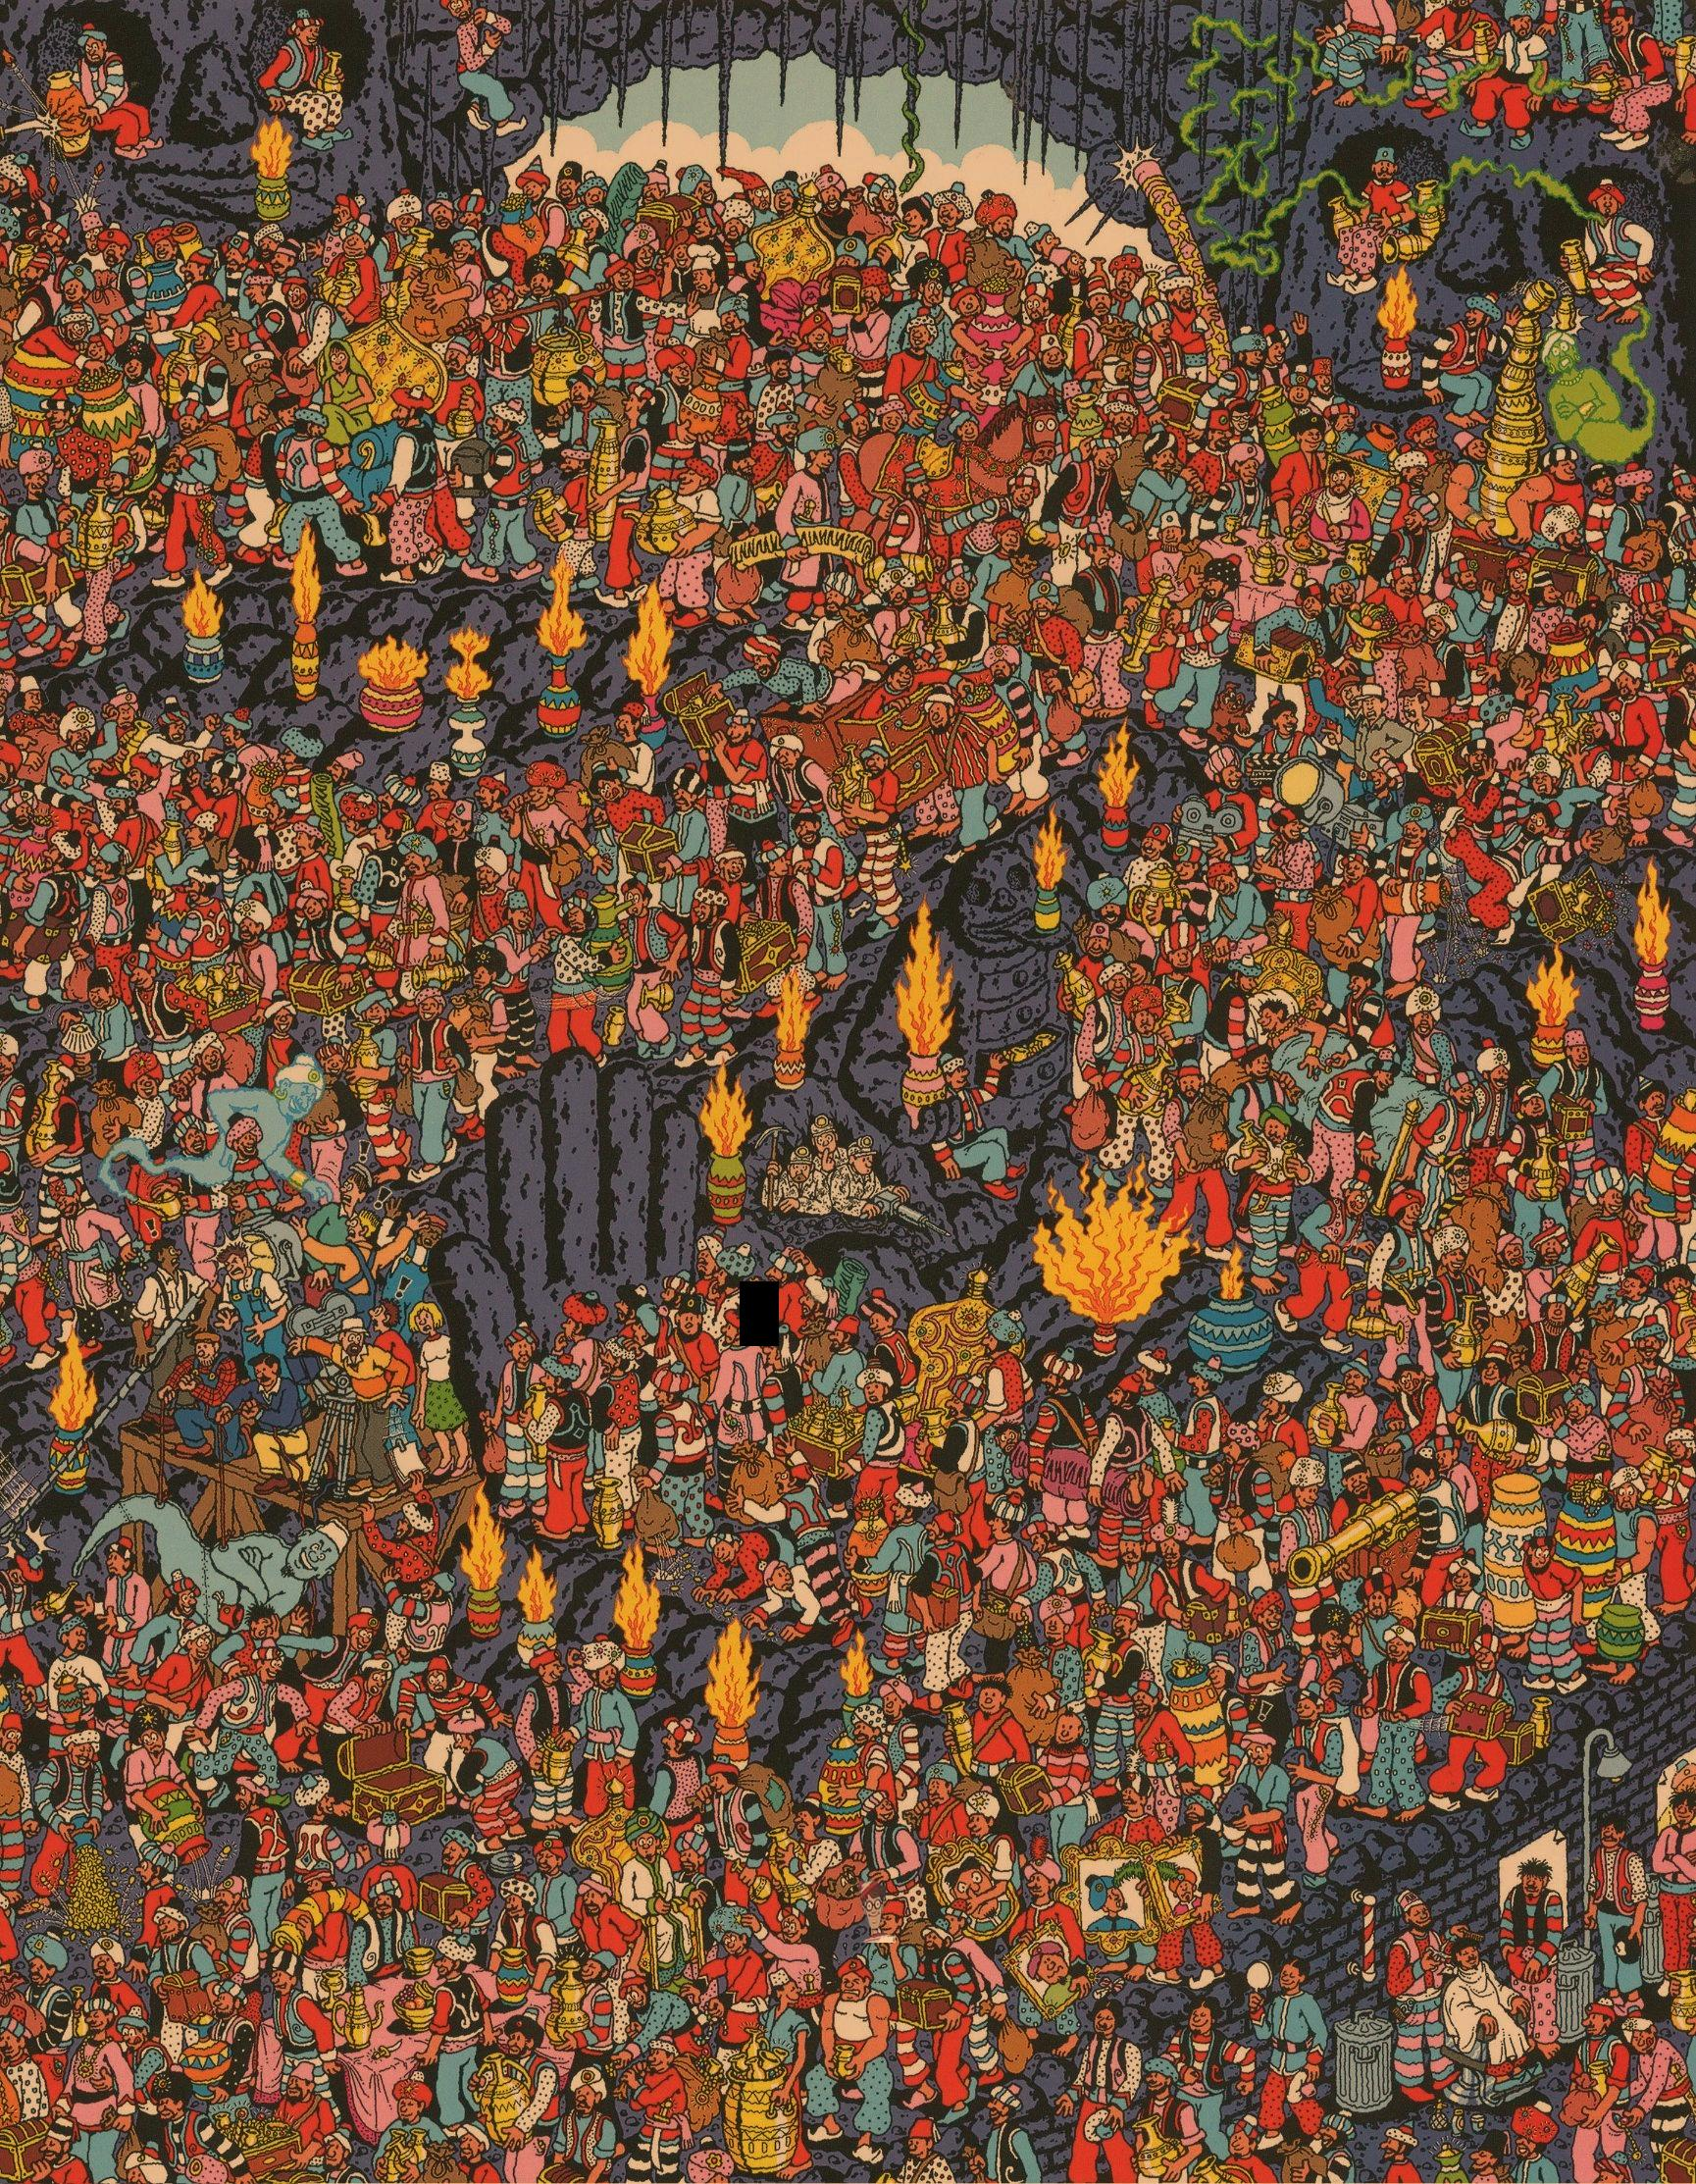waldos: (856, 1877, 895, 1943)
